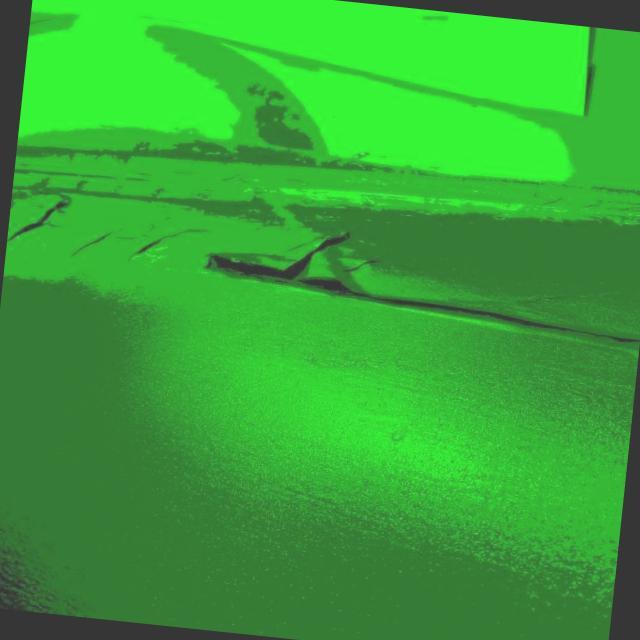crack: (71, 208, 203, 273), (514, 285, 570, 313), (342, 256, 386, 280)
